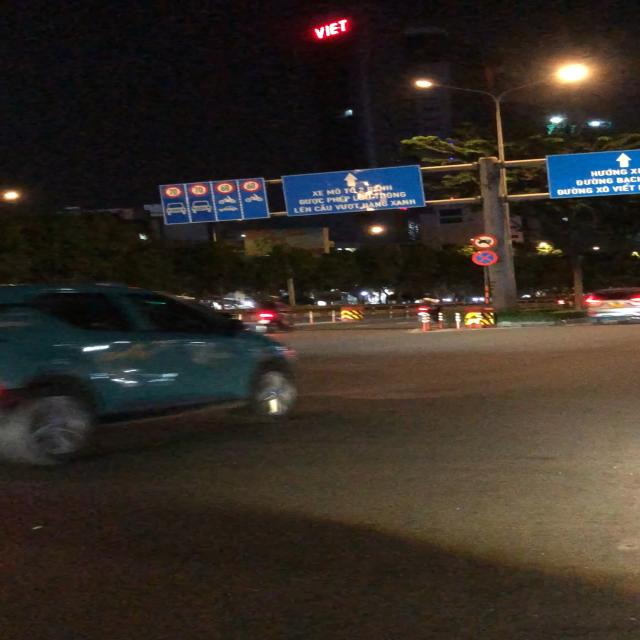Bien bao cam dung xe va do xe: (471, 249, 500, 267)
Bien bao cam xe oto tai: (469, 233, 499, 249)
Bien bao toc do toi da cho phep: (213, 180, 236, 194), (162, 184, 184, 198), (240, 180, 262, 193), (187, 184, 210, 196)
